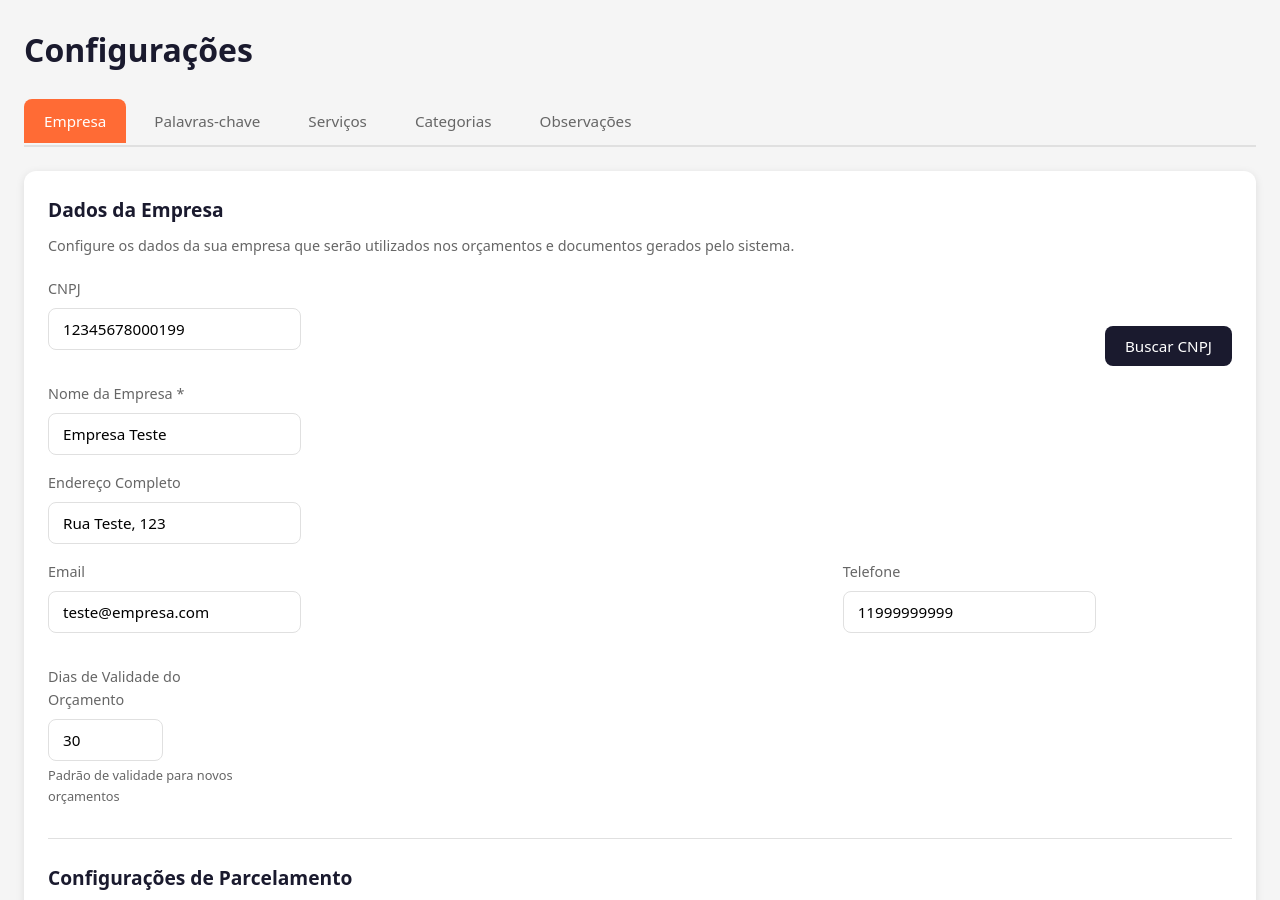
Test: Configuracoes › Aba de Palavras-chave › deve exibir lista de palavras-chave ao clicar na aba
Click the button "Palavras-chave".
click(207, 121)  # box [134,99,280,143]
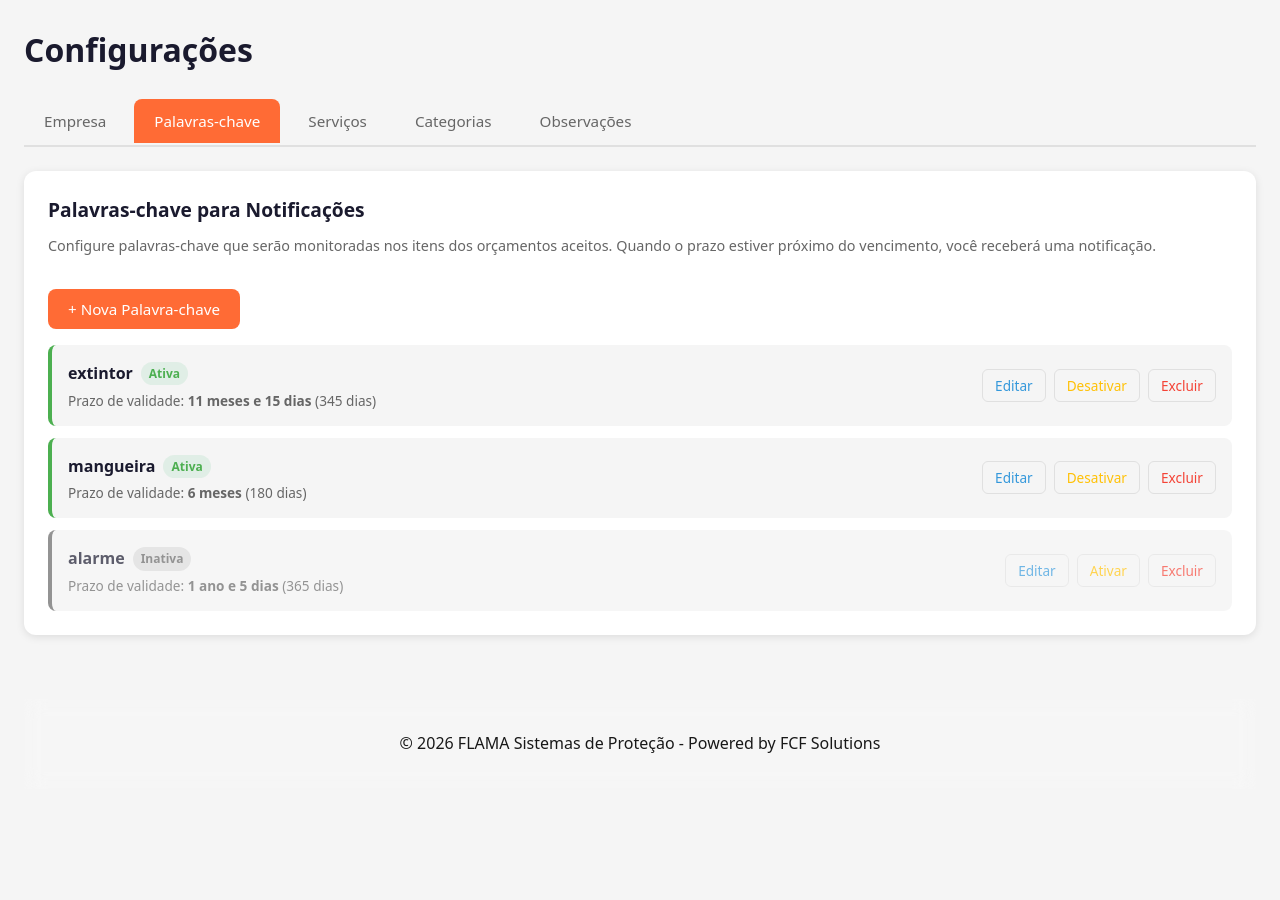
expect the text "extintor" is shown: met, box [68,362,133,384]
expect the text "mangueira" is shown: met, box [68,455,156,477]
expect the text "alarme" is shown: met, box [68,547,125,569]
